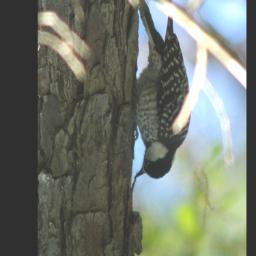Woodpecker: (132, 0, 192, 181)
